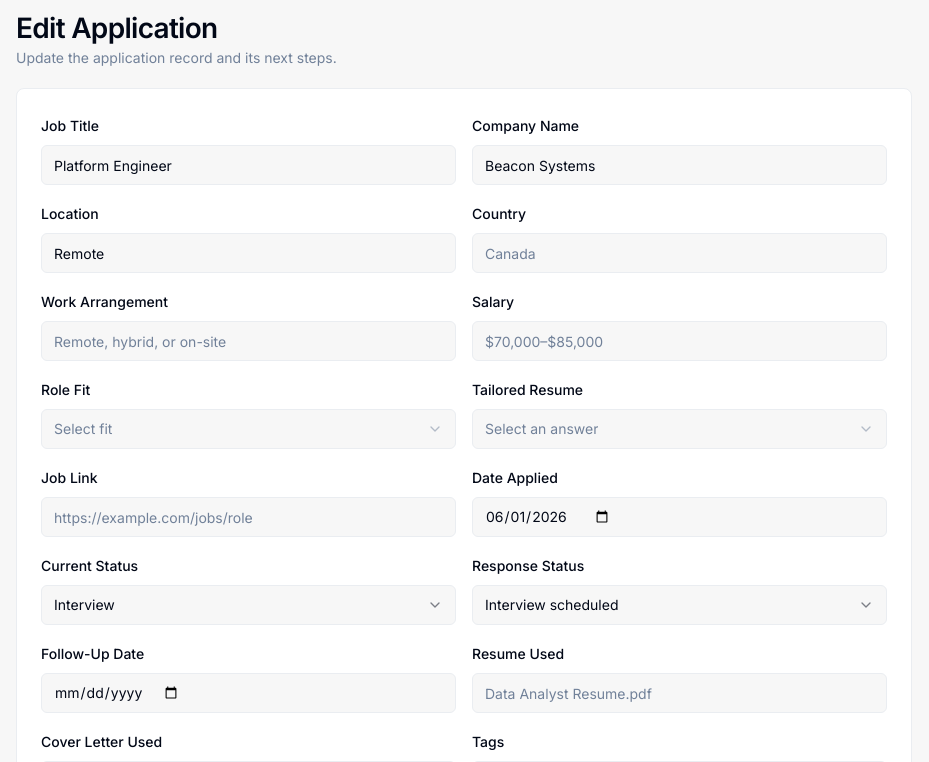
it: ApplicationForm › keeps an existing custom response status available in edit mode
This screenshot has width=929, height=762.
Click the dropdown named "Response Status" at (552, 604), box x1=472 y1=585 x2=887 y2=625
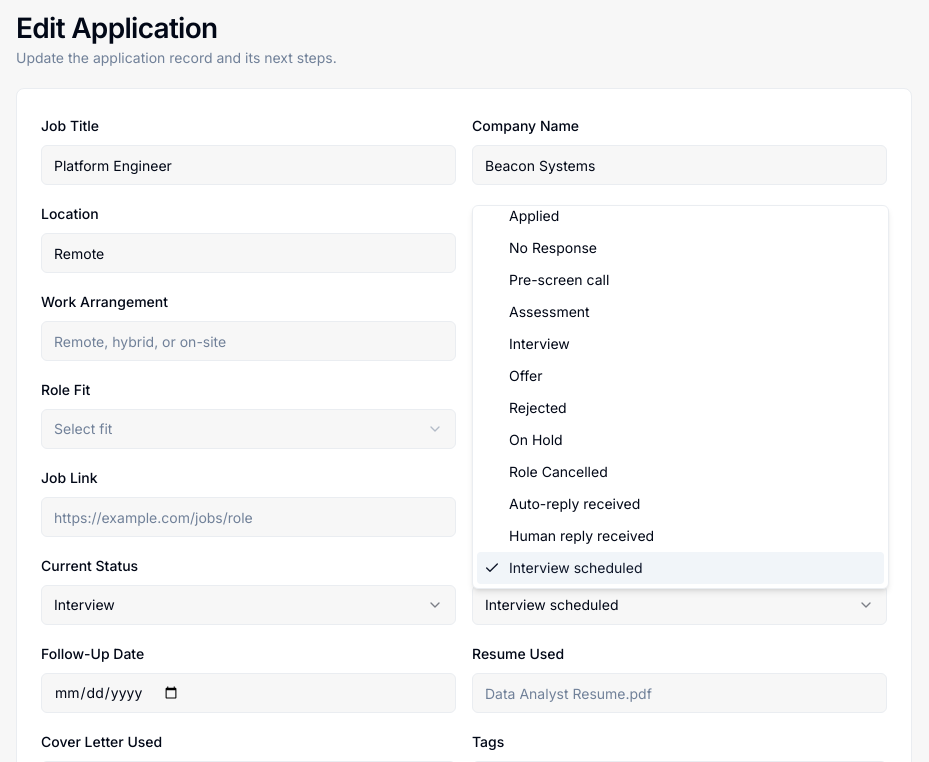
Check: the option "Interview scheduled" is shown, box x1=477 y1=552 x2=884 y2=584
